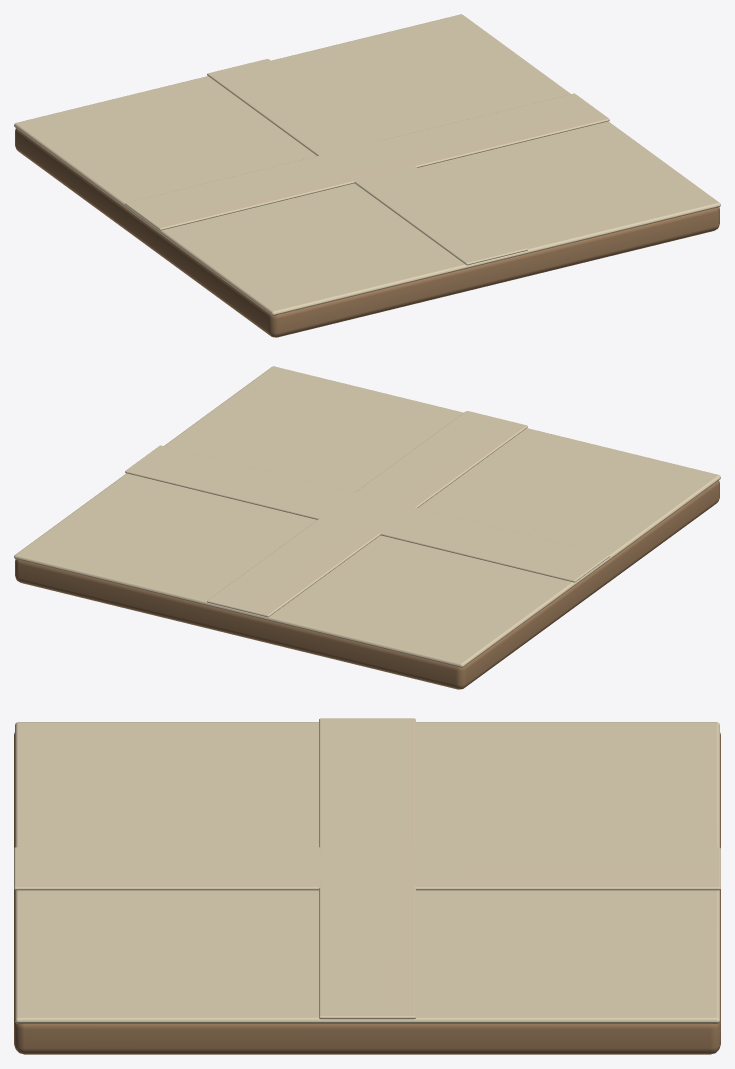
Rendered from tile-sand.glb.
3 views of the same model, one above another, from view 1: azimuth 30°, elevation 25°; view 2: azimuth 150°, elevation 25°; view 3: azimuth 270°, elevation 25° (orthographic). The views are drawn at different scales.
Visible parts, largest first — view 1: Ground, East west path, Island, North south path; view 2: Ground, East west path, Island, North south path; view 3: Ground, East west path, North south path, Island.
Part boxes in pixels (x1=…): Ground: x1=14, y1=14, x2=720, y2=315; East west path: x1=125, y1=93, x2=609, y2=230; Island: x1=15, y1=128, x2=719, y2=337; North south path: x1=207, y1=59, x2=527, y2=265; Ground: x1=14, y1=366, x2=720, y2=667; East west path: x1=125, y1=445, x2=609, y2=582; Island: x1=15, y1=480, x2=719, y2=689; North south path: x1=207, y1=411, x2=527, y2=617; Ground: x1=15, y1=722, x2=719, y2=1023; East west path: x1=319, y1=718, x2=415, y2=1019; North south path: x1=14, y1=847, x2=720, y2=890; Island: x1=14, y1=732, x2=720, y2=1054.
Size of the model in its own units: 8 by 0.519 by 8.
